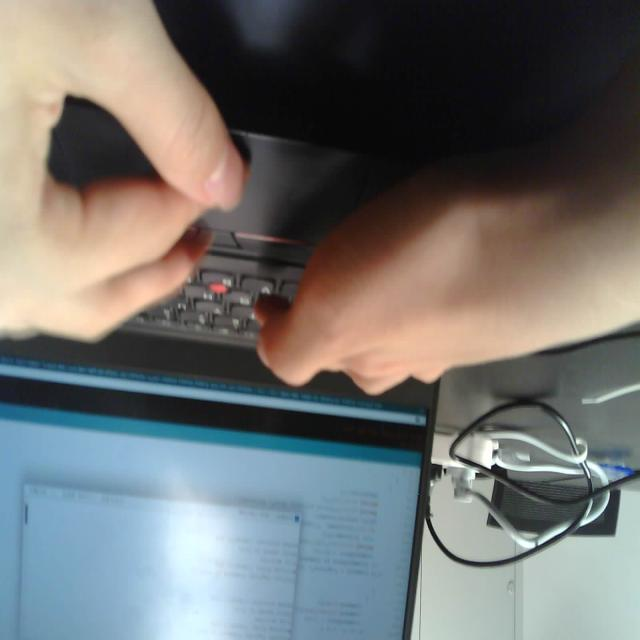keyboard-with-hands: (0, 87, 452, 383)
